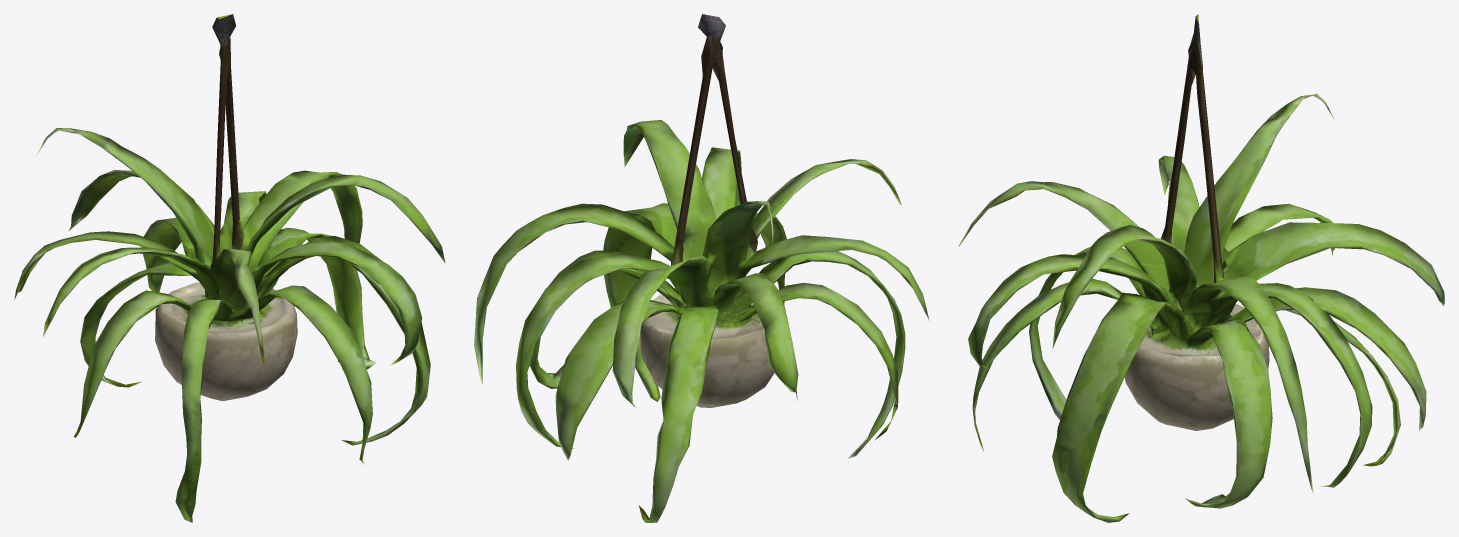
File: hangingPlantSpider.fbx
3 views of the same model, side by side, from view 1: azimuth 30°, elevation 25°; view 2: azimuth 150°, elevation 25°; view 3: azimuth 270°, elevation 25° (orthographic). The views are drawn at different scales.
Parts seen in each view (by area): view 1: hangingPantSpider; view 2: hangingPantSpider; view 3: hangingPantSpider.
Boxes of the visible parts, x1,y1,x2,y2 form: hangingPantSpider: (14,14,445,522); hangingPantSpider: (474,14,929,522); hangingPantSpider: (958,14,1444,522).
Size of the model in its own units: 82.05 by 92.46 by 84.82.
